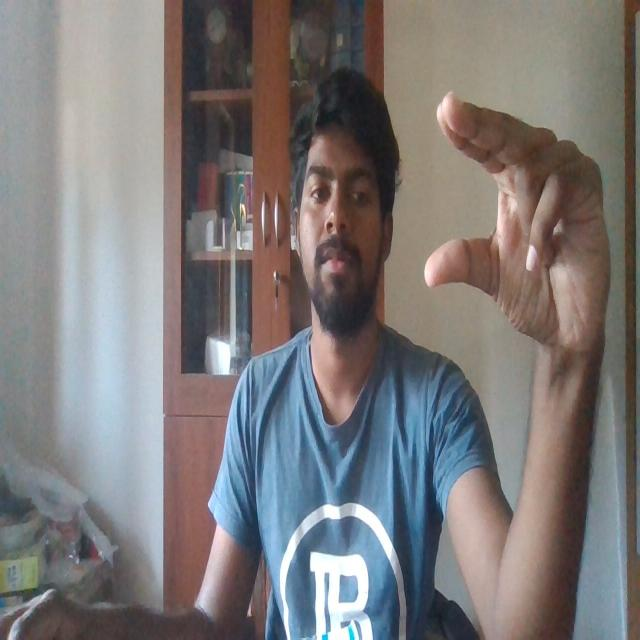No: (418, 82, 624, 364)
